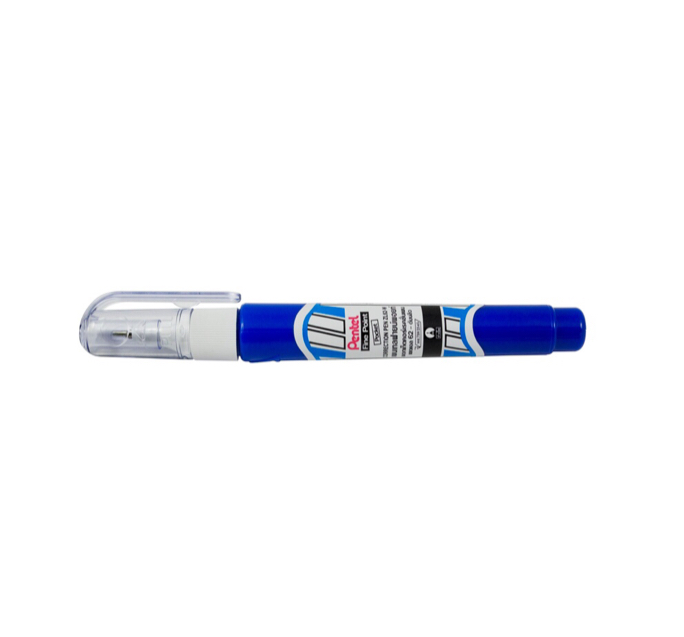Correction_fluid: (74, 282, 591, 369)
